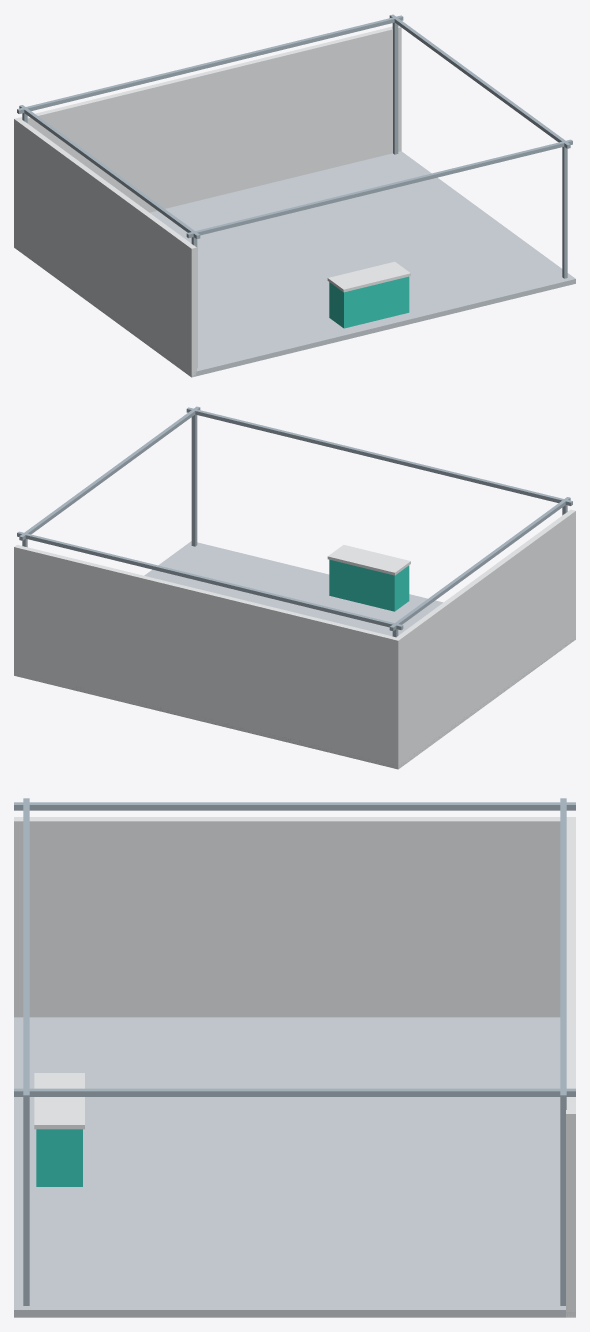
3 renders of one model, top to bottom at view 1: azimuth 30°, elevation 25°; view 2: azimuth 150°, elevation 25°; view 3: azimuth 270°, elevation 25°, orthographic. The views are drawn at different scales.
Parts seen in each view (by area): view 1: Exhibition Booth Concept; view 2: Exhibition Booth Concept; view 3: Exhibition Booth Concept.
Part boxes in pixels (x1=…): Exhibition Booth Concept: x1=14, y1=14, x2=575, y2=377; Exhibition Booth Concept: x1=14, y1=406, x2=575, y2=769; Exhibition Booth Concept: x1=14, y1=798, x2=575, y2=1317.
Bounding box in the file's own units: 10 × 3.49 × 8.
